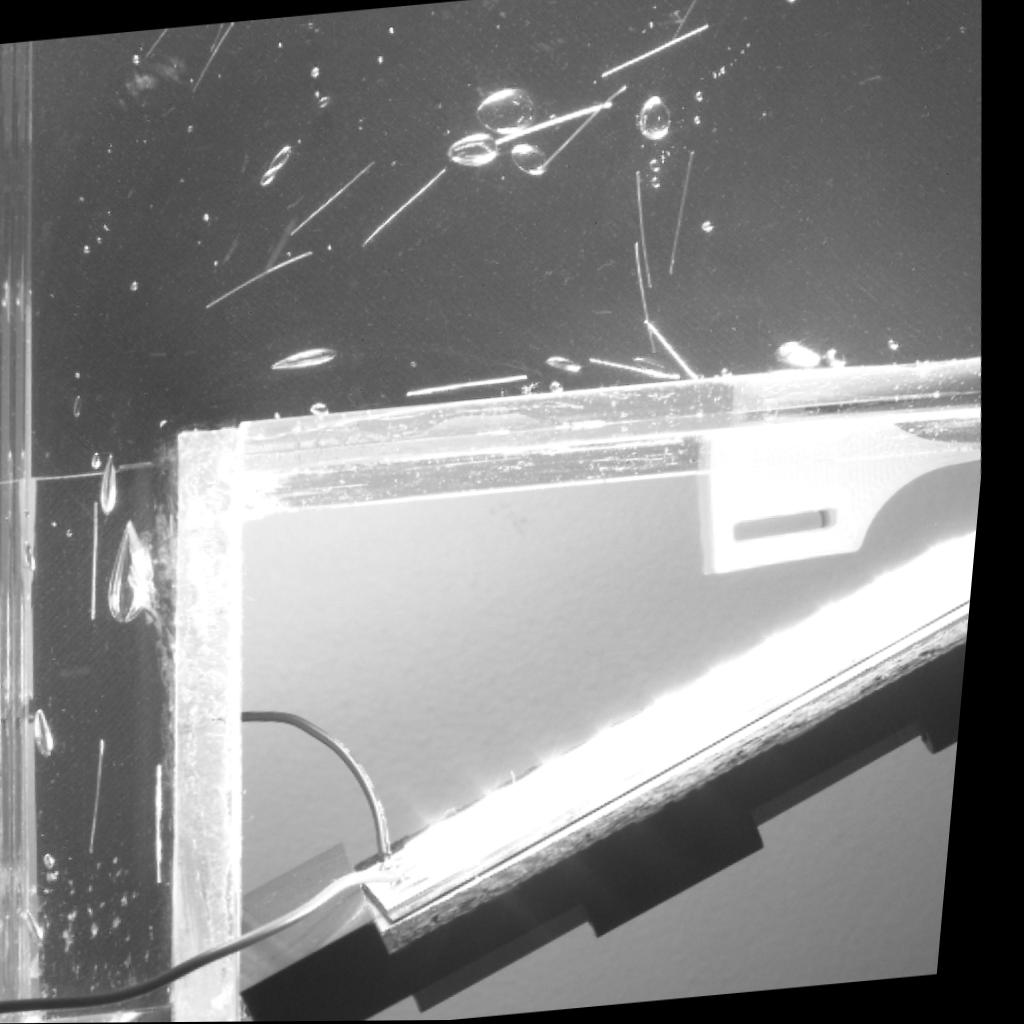Fiber: (286, 150, 384, 242), (535, 82, 631, 172), (360, 165, 456, 250), (206, 244, 321, 314), (598, 16, 711, 83), (486, 94, 614, 149), (645, 315, 710, 388), (668, 145, 701, 281), (634, 242, 670, 358), (187, 23, 242, 97), (630, 167, 661, 294), (408, 369, 539, 399), (591, 351, 694, 385), (101, 732, 122, 858), (666, 0, 702, 46), (167, 762, 180, 888), (98, 496, 110, 624), (138, 28, 173, 57)
